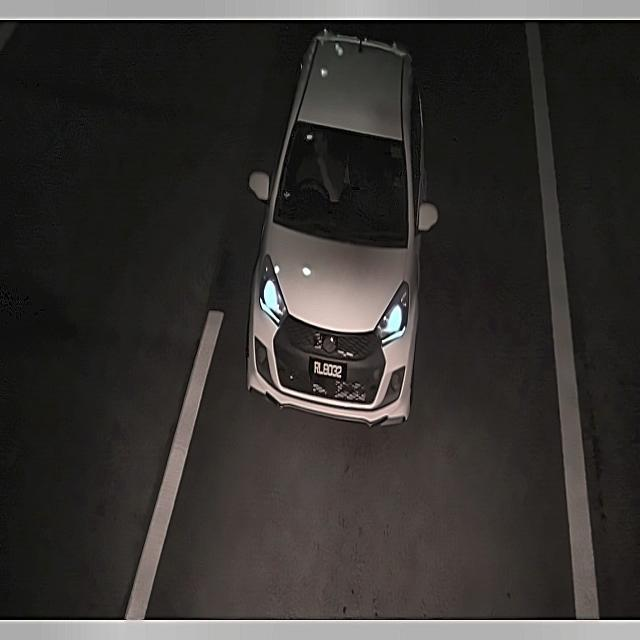car: (304, 354, 350, 384)
